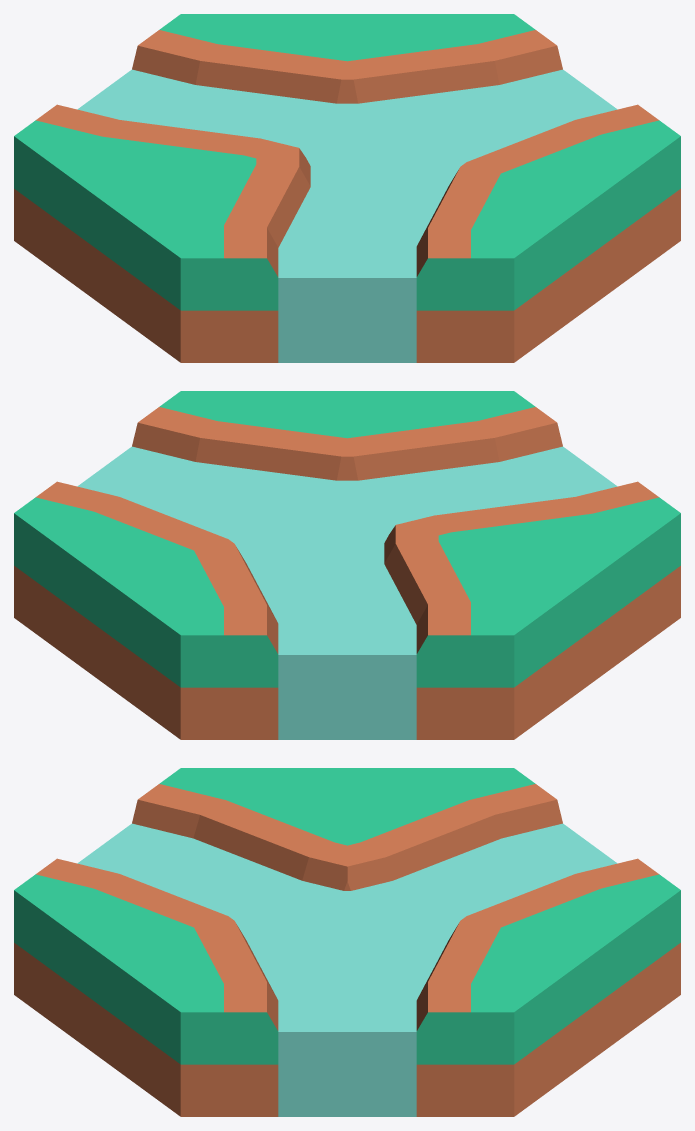
File: River Intersection F.glb
3 views of the same model, one above another, from view 1: azimuth 30°, elevation 25°; view 2: azimuth 150°, elevation 25°; view 3: azimuth 270°, elevation 25° (orthographic).
Visible parts, largest first — view 1: river_intersectionF; view 2: river_intersectionF; view 3: river_intersectionF.
Boxes of the visible parts, x1,y1,x2,y2 form: river_intersectionF: (14, 14, 680, 362); river_intersectionF: (14, 391, 680, 739); river_intersectionF: (14, 768, 680, 1116).
Bounding box in the file's own units: 1 × 0.2 × 1.15.
